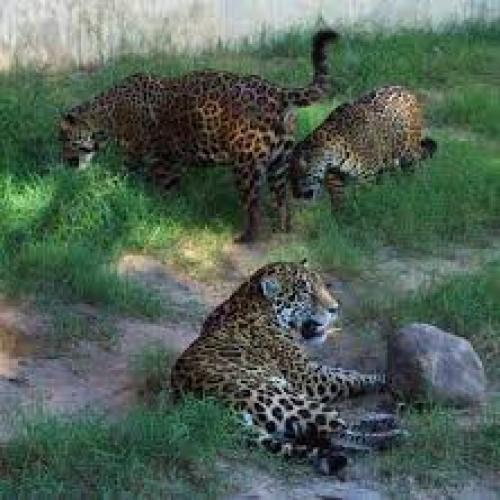jaguar_not-endangered: (61, 32, 340, 240), (169, 264, 400, 472), (294, 90, 438, 200)
